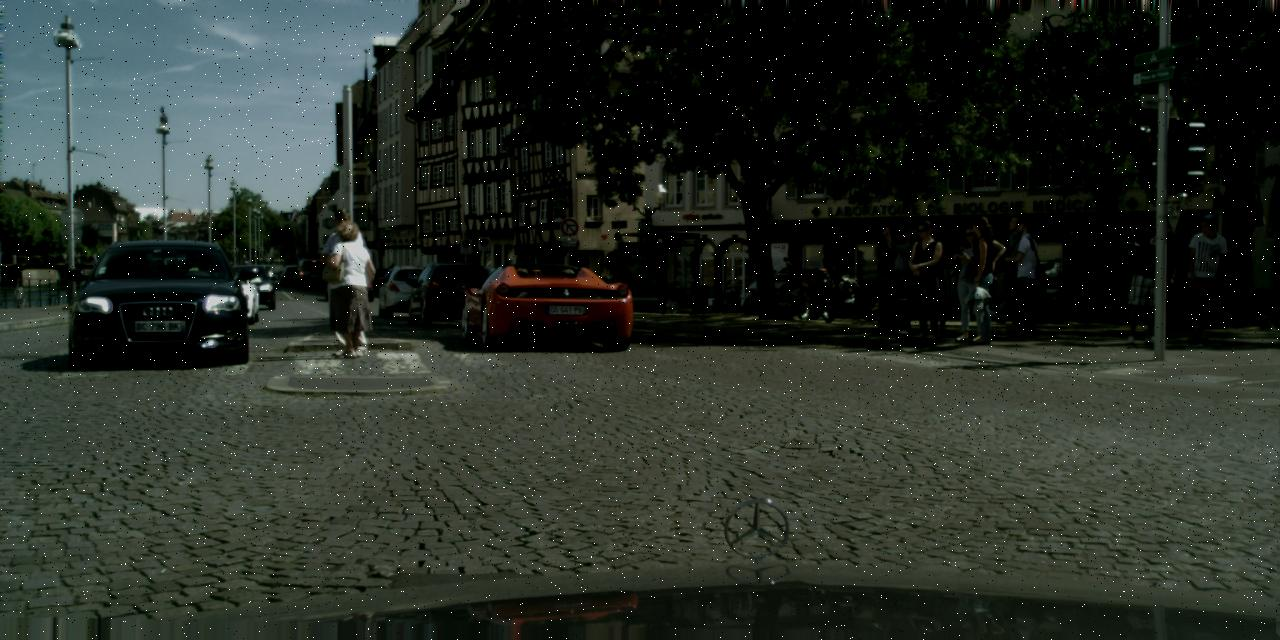ped: (316, 208, 377, 356), (322, 220, 378, 356), (1126, 213, 1180, 344), (955, 213, 1007, 343), (1180, 215, 1232, 343), (990, 215, 1039, 334), (1003, 219, 1051, 338), (903, 221, 951, 338), (948, 227, 993, 339), (884, 230, 920, 318)
